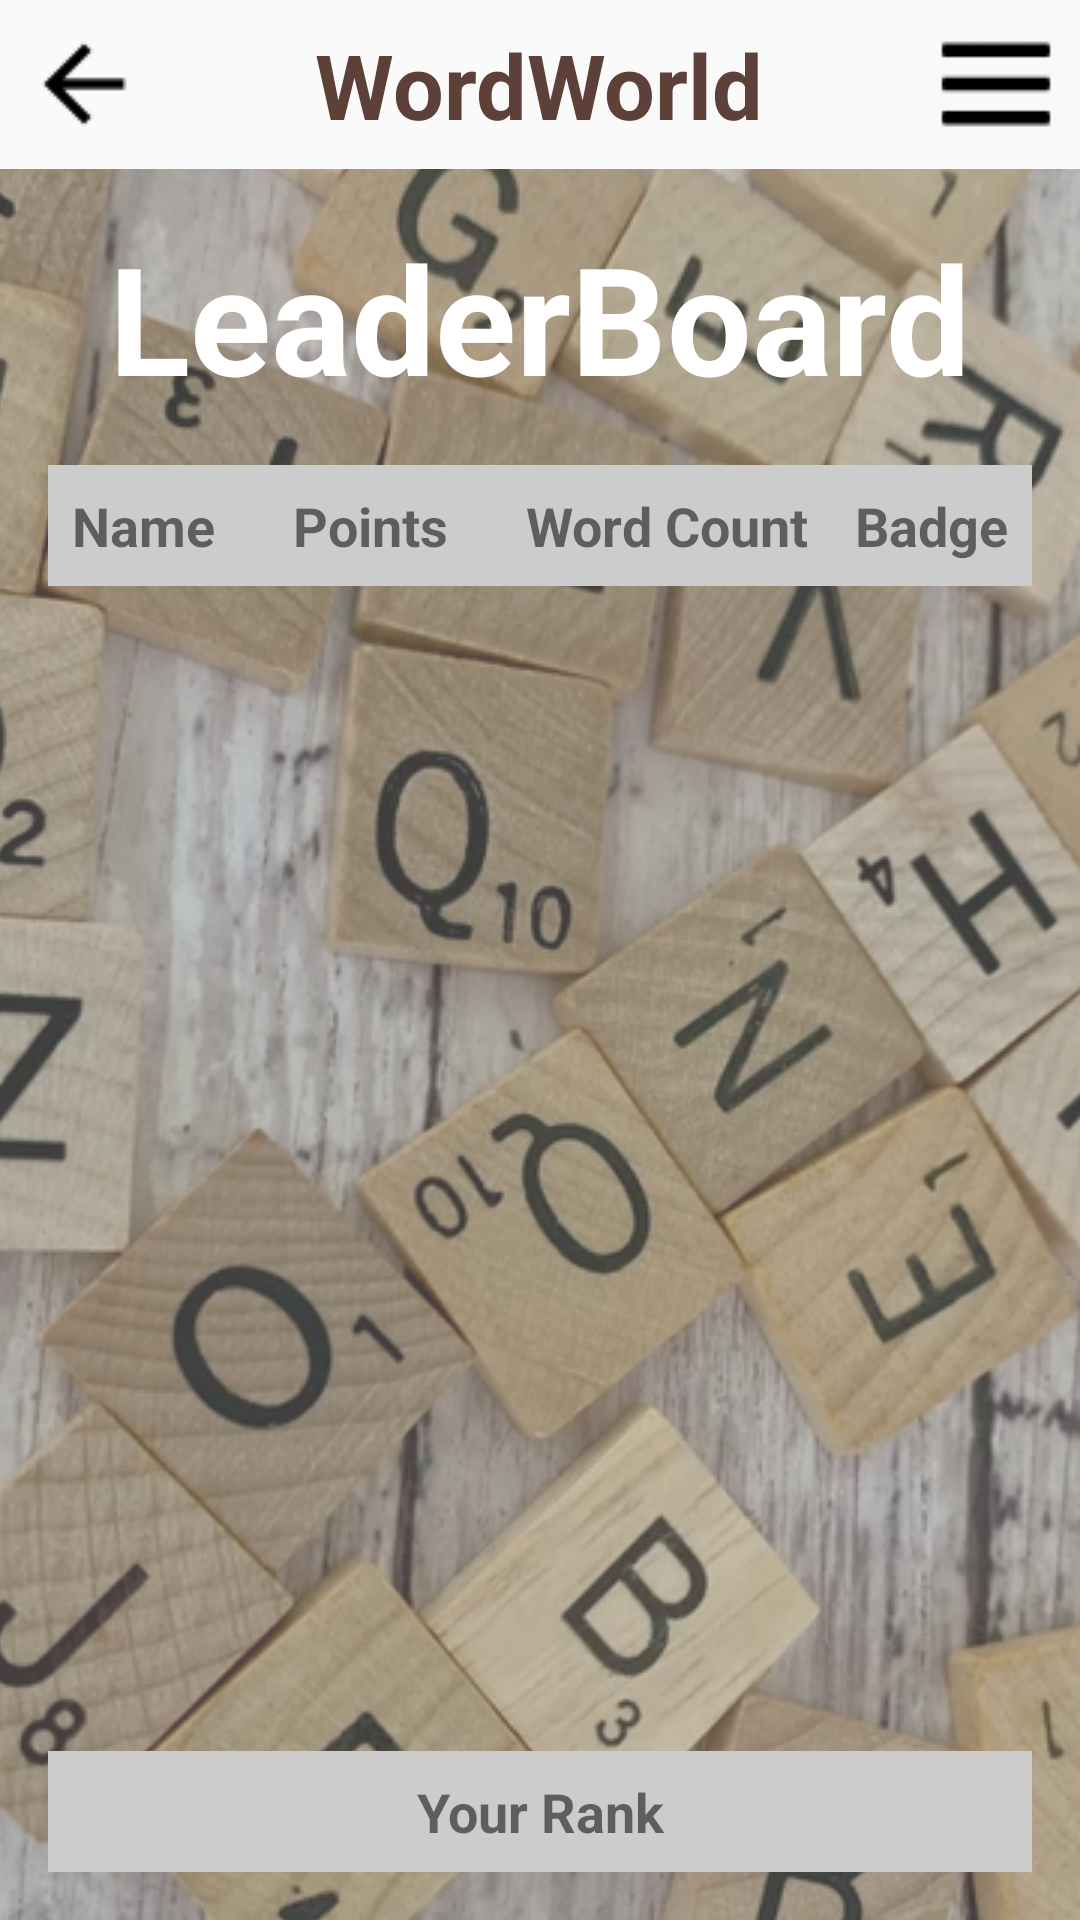

Point at icon controls on the screen. Image size 1080x1920, points as point (x, y).
Back: point (85, 84)
Navigation: point (996, 84)
